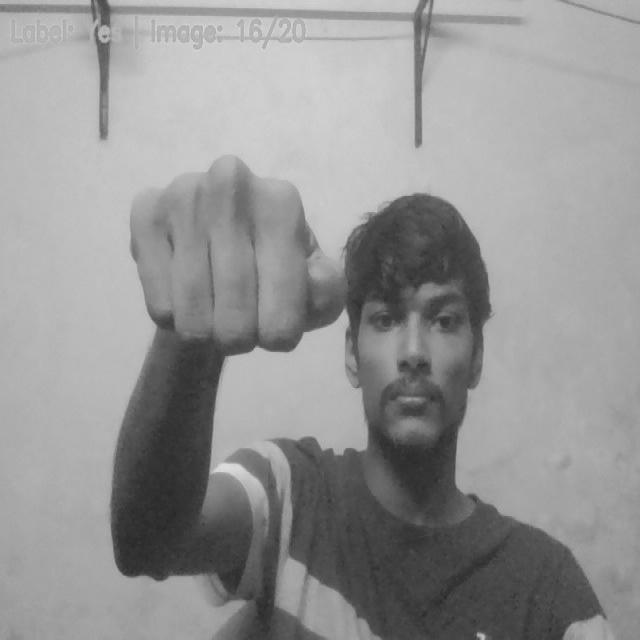Yes: (125, 154, 349, 362)
